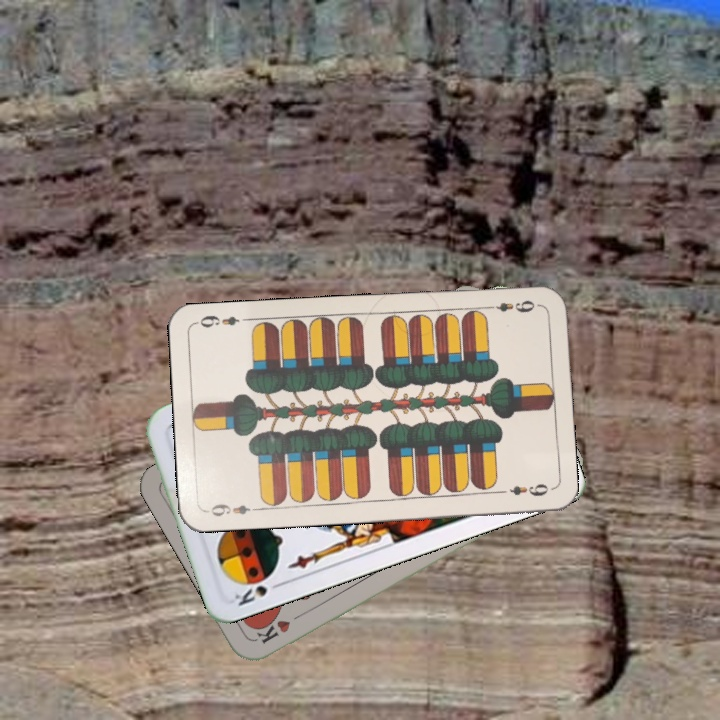E9: (203, 499, 262, 519), (482, 296, 542, 315)
HK: (252, 607, 308, 646)
SK: (230, 578, 286, 609)
